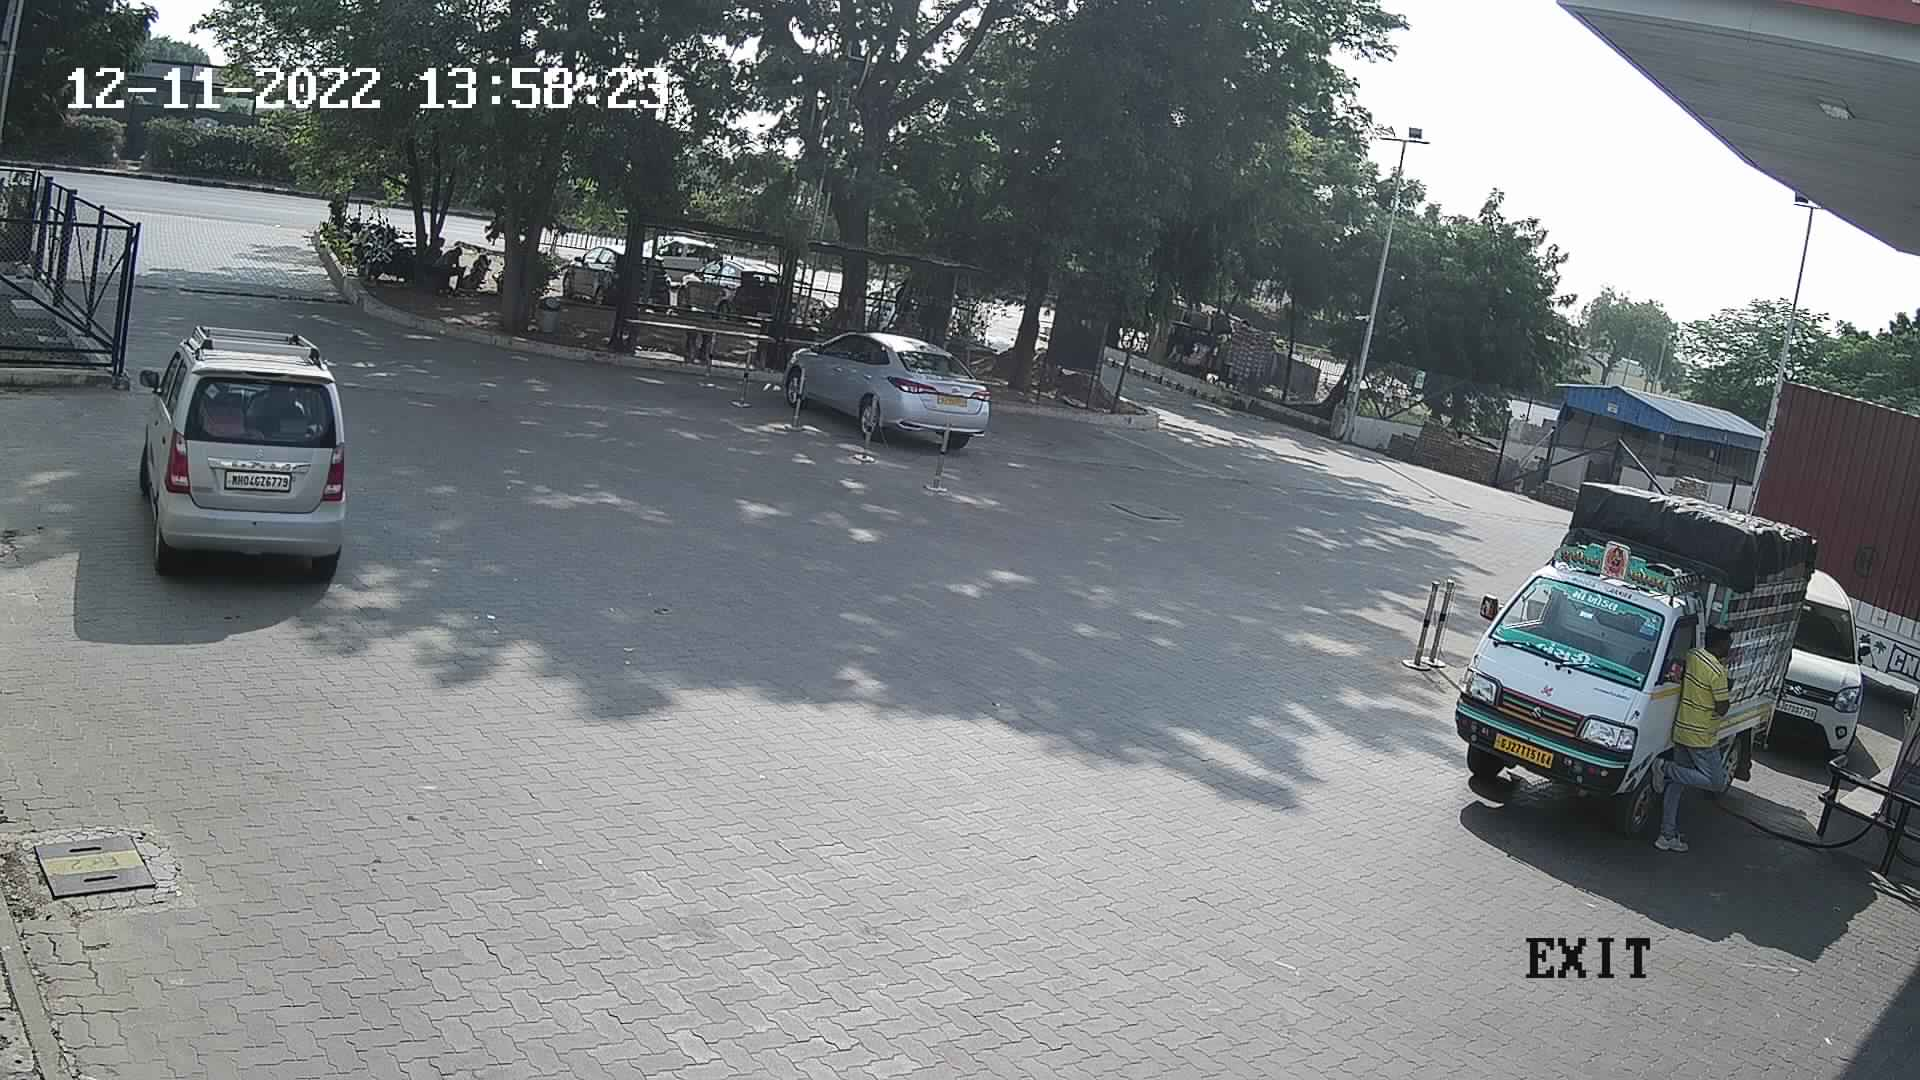Car: (1444, 473, 1825, 847), (127, 320, 369, 587), (781, 314, 1000, 455), (1751, 558, 1880, 773), (670, 252, 781, 324), (633, 222, 724, 290), (558, 237, 626, 313)
HMV: (1734, 357, 1917, 711)
